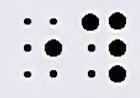dot_5: (24, 18, 62, 78)
two_cell_non_alphabet_panahon: (82, 12, 126, 83)
